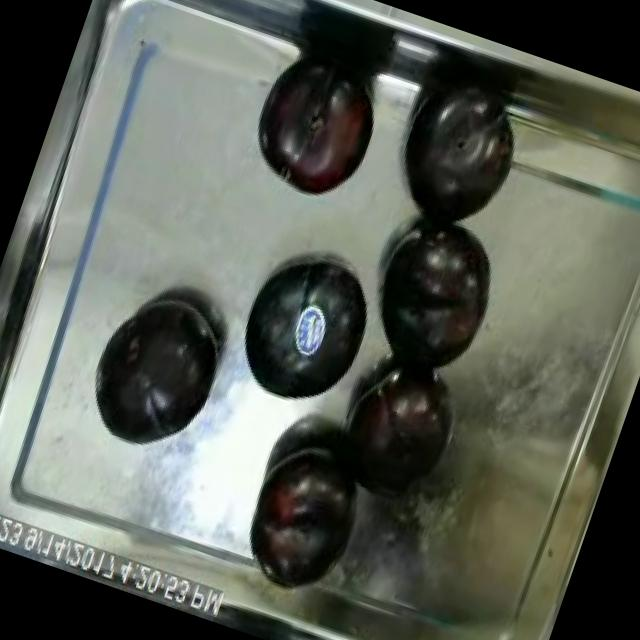Fruit: (372, 419, 578, 640), (210, 228, 392, 431), (72, 276, 246, 473), (348, 202, 516, 388), (232, 41, 398, 218), (376, 66, 538, 242), (320, 347, 478, 526), (226, 430, 382, 608)
